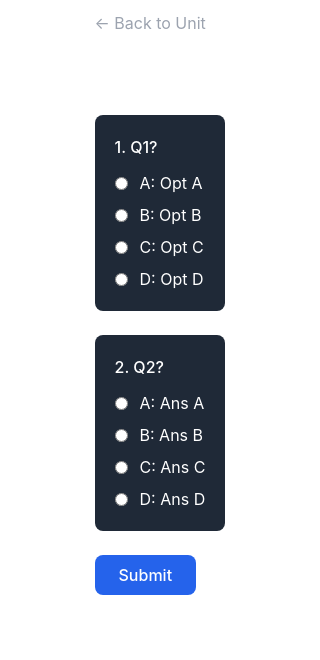
Test: UnitTestPage › shows submit error when mutation fails
Expected: the text "Q1?" is shown, 130,137 -> 158,157
Click the button "Submit". click: (145, 575)
box: 94,555 -> 196,595
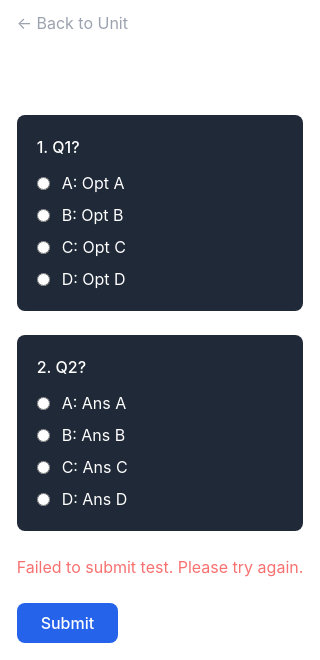
Now the text "Failed to submit test. Please try again." is shown, box 17,555 -> 303,579
